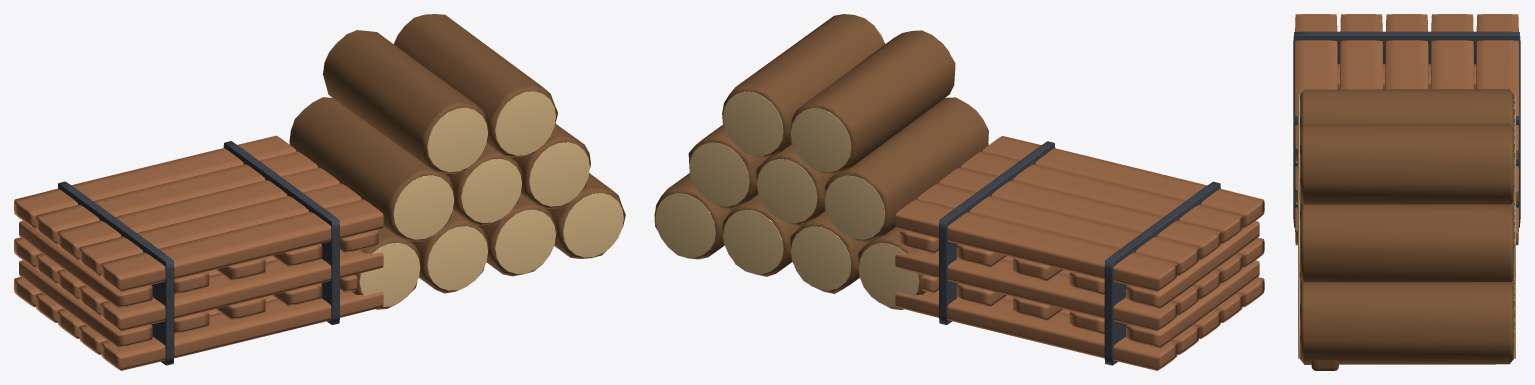
Rendered from LogJamLumber.obj.
3 renders of one model, left to right at view 1: azimuth 30°, elevation 25°; view 2: azimuth 150°, elevation 25°; view 3: azimuth 270°, elevation 25°, orthographic. The views are drawn at different scales.
Parts seen in each view (by area): view 1: Planks, Logs, LogEnds, Straps; view 2: Planks, Logs, LogEnds, Straps; view 3: Logs, Planks, Straps, LogEnds, Chocks.
Part boxes in pixels (bbox=[...]): Planks: bbox=[14, 135, 383, 370]; Logs: bbox=[289, 14, 625, 309]; LogEnds: bbox=[300, 26, 623, 306]; Straps: bbox=[58, 141, 339, 365]; Planks: bbox=[895, 136, 1264, 370]; Logs: bbox=[654, 14, 988, 309]; LogEnds: bbox=[655, 29, 982, 306]; Straps: bbox=[939, 141, 1220, 365]; Logs: bbox=[1300, 89, 1513, 364]; Planks: bbox=[1294, 14, 1519, 245]; Straps: bbox=[1293, 31, 1520, 227]; LogEnds: bbox=[1298, 94, 1515, 358]; Chocks: bbox=[1311, 360, 1338, 370].
Bounding box in the file's own units: 13.52 × 4.82 × 5.
